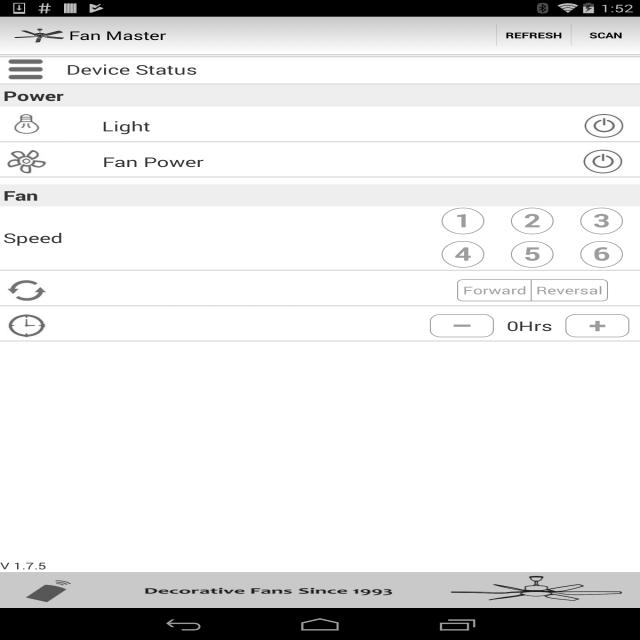Button: (430, 314, 494, 337), (566, 314, 630, 337)
ImageButton: (583, 113, 624, 139), (582, 149, 623, 174), (6, 58, 45, 82)
ImageView: (14, 19, 64, 52), (3, 113, 53, 139), (6, 149, 47, 174), (6, 278, 47, 303), (6, 313, 47, 338)
RadioButton: (531, 280, 608, 302), (457, 280, 532, 302), (511, 241, 554, 268), (580, 241, 623, 268), (442, 241, 484, 268), (511, 208, 554, 234), (580, 208, 623, 234), (442, 208, 484, 234)
TextView: (0, 572, 640, 608), (0, 342, 640, 356), (497, 17, 571, 54), (571, 16, 640, 54), (428, 17, 496, 54), (66, 60, 197, 78), (102, 152, 204, 170), (69, 27, 167, 43), (3, 86, 64, 105), (3, 228, 63, 246), (102, 117, 150, 135), (507, 316, 552, 334), (3, 187, 39, 204), (0, 559, 46, 571)
